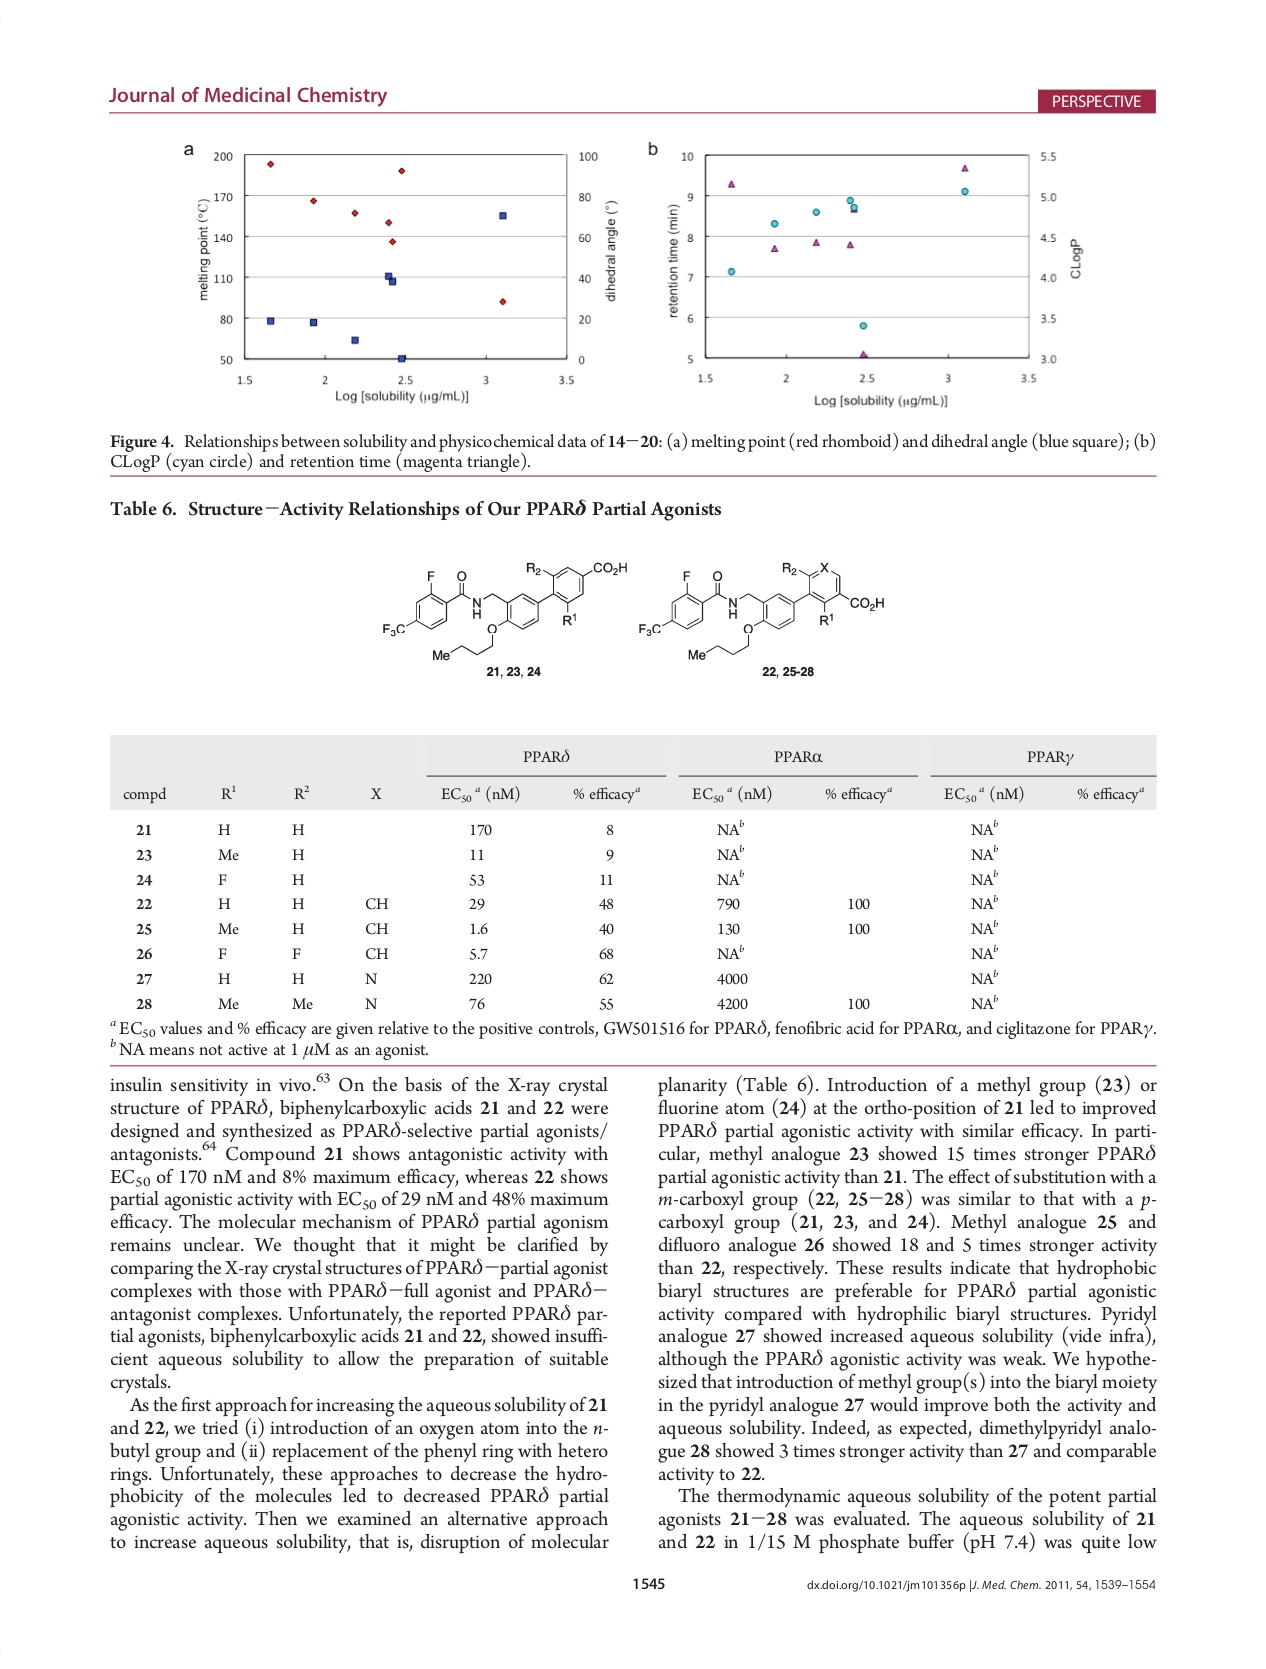exist_molecular: (380, 551, 628, 660), (636, 557, 887, 664)
